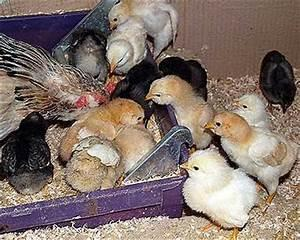hen: (179, 144, 259, 239)
